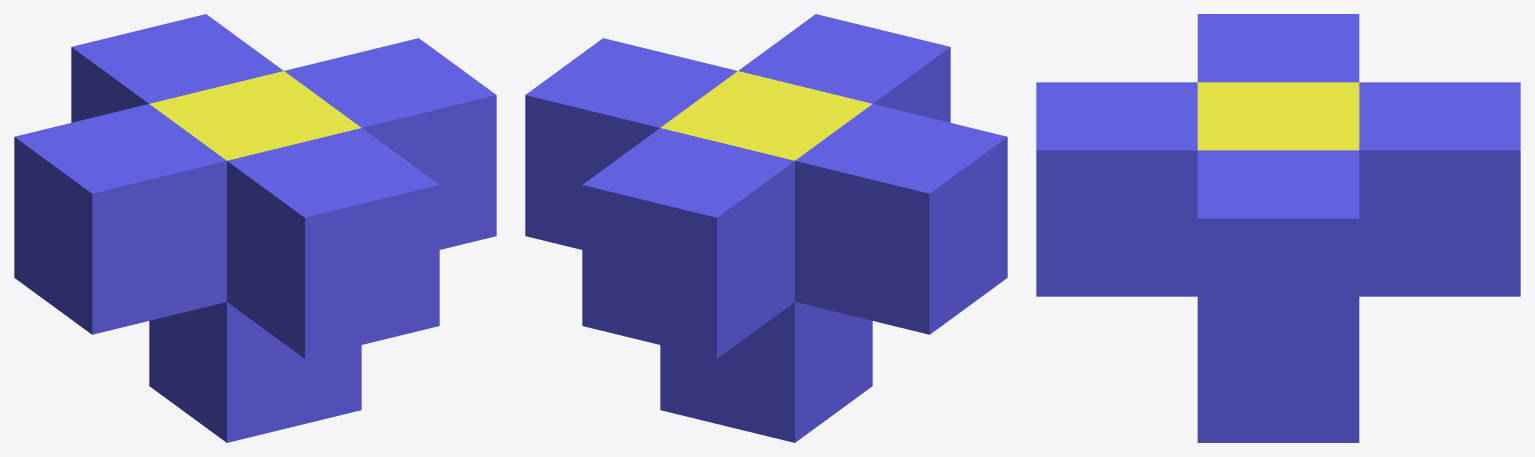
File: cvetochek04.obj
3 views of the same model, side by side, from view 1: azimuth 30°, elevation 25°; view 2: azimuth 150°, elevation 25°; view 3: azimuth 270°, elevation 25° (orthographic). The views are drawn at different scales.
Bounding box in the file's own units: 0.3 × 0.2 × 0.3.
Materials: 1 (1 with a texture image).
